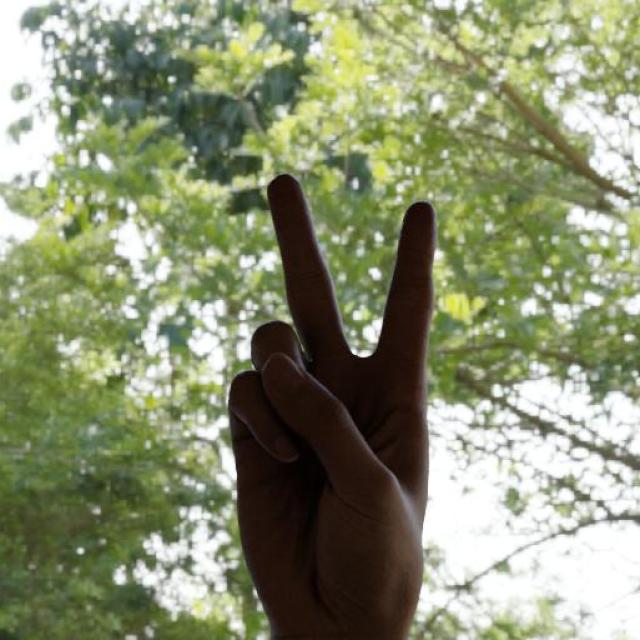V: (221, 169, 445, 640)
